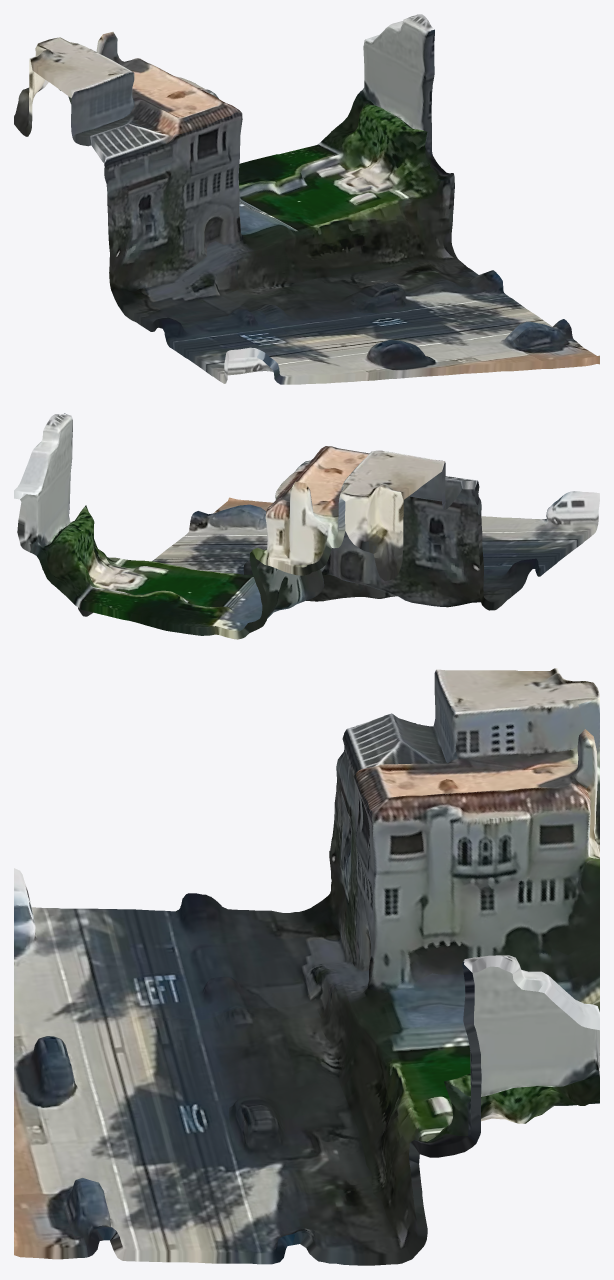
File: z20-167714-405195-h0-yup-uvflip-v3-world.glb
3 renders of one model, top to bottom at view 1: azimuth 30°, elevation 25°; view 2: azimuth 150°, elevation 25°; view 3: azimuth 270°, elevation 25°, orthographic. The views are drawn at different scales.
Size of the model in its own units: 30.16 by 20.4 by 30.32.
Materials: 1 (1 with a texture image).
